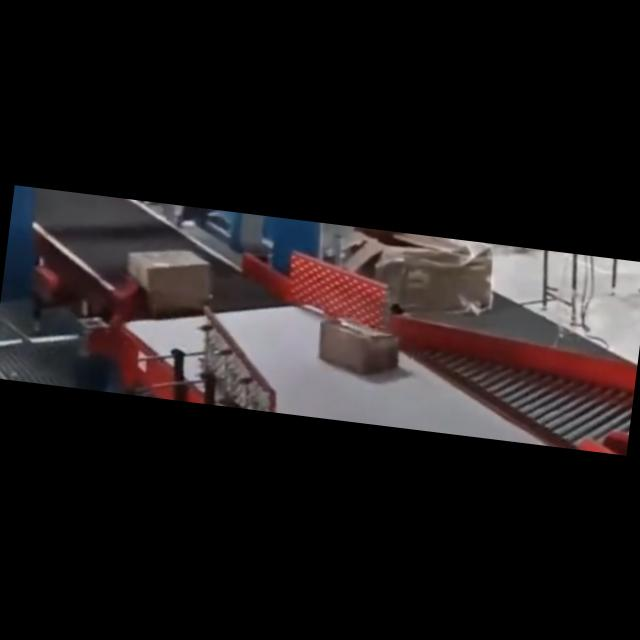box: (122, 244, 216, 317), (312, 314, 404, 380)
